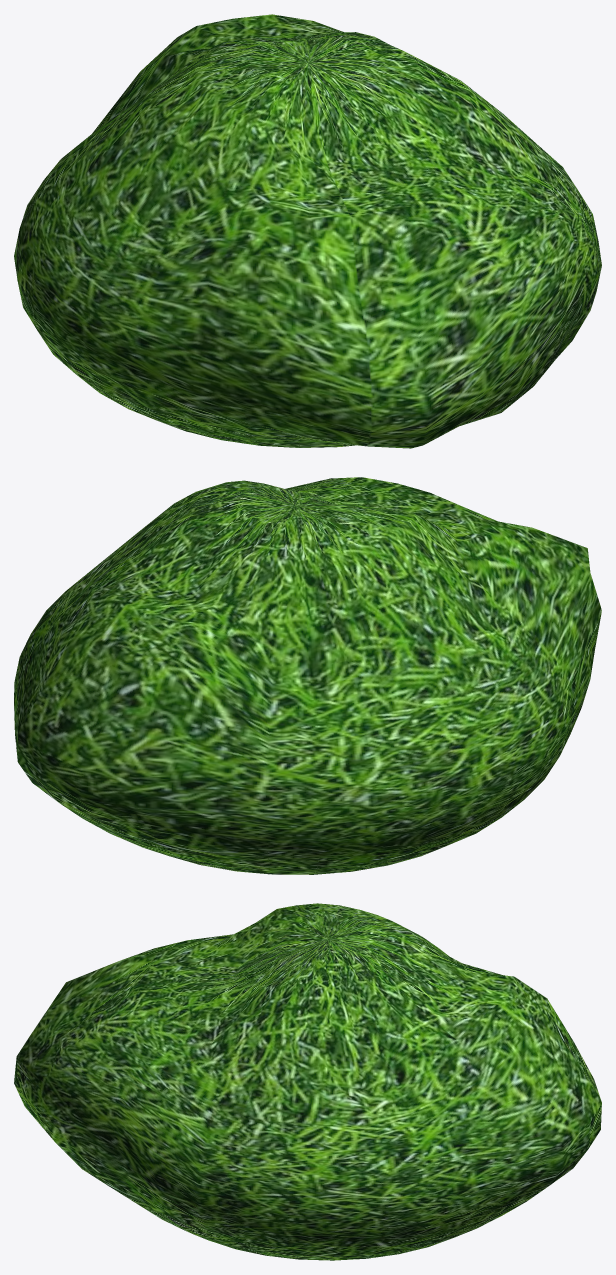
Rendered from Semak.fbx.
The picture shows the model from 3 angles, top to bottom: view 1: azimuth 30°, elevation 25°; view 2: azimuth 150°, elevation 25°; view 3: azimuth 270°, elevation 25°; orthographic projection. The views are drawn at different scales.
Visible parts, largest first — view 1: semak.008; view 2: semak.008; view 3: semak.008.
Boxes of the visible parts, x1,y1,x2,y2 form: semak.008: [14, 14, 601, 448]; semak.008: [14, 477, 601, 874]; semak.008: [14, 903, 601, 1260].
Bounding box in the file's own units: 159 × 103 × 191.
1 material, 1 textured.
